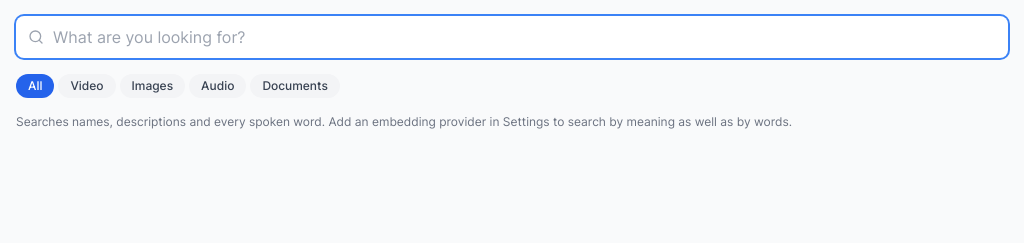
it: SearchView › shows the matching moment and its timestamp
The width and height of the screenshot is (1024, 243).
Type "nano" into the field with placeholder "What are you looking for?". click: (512, 37)
box: [16, 16, 1008, 58]
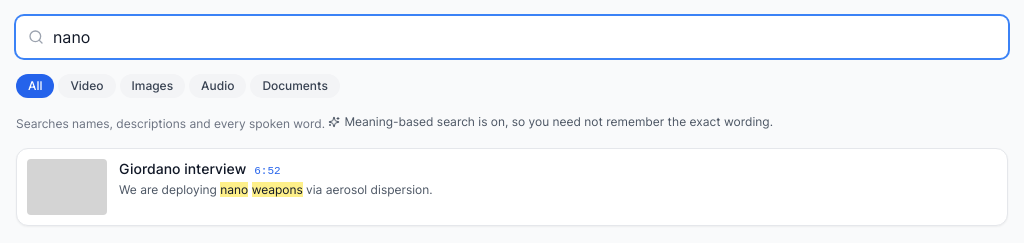
Result: the text "6:52" is shown at [254, 163, 281, 180]
Result: the text "Giordano interview" is shown at [119, 159, 246, 179]
